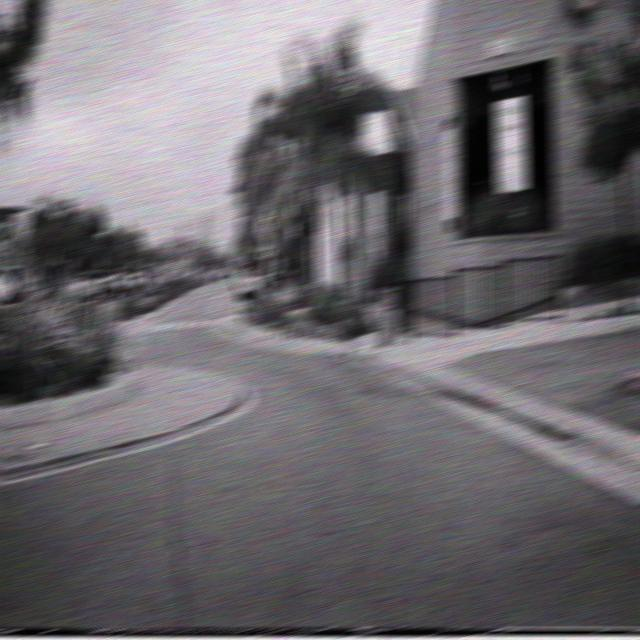pedestrianCrossing: (253, 205, 279, 245)
